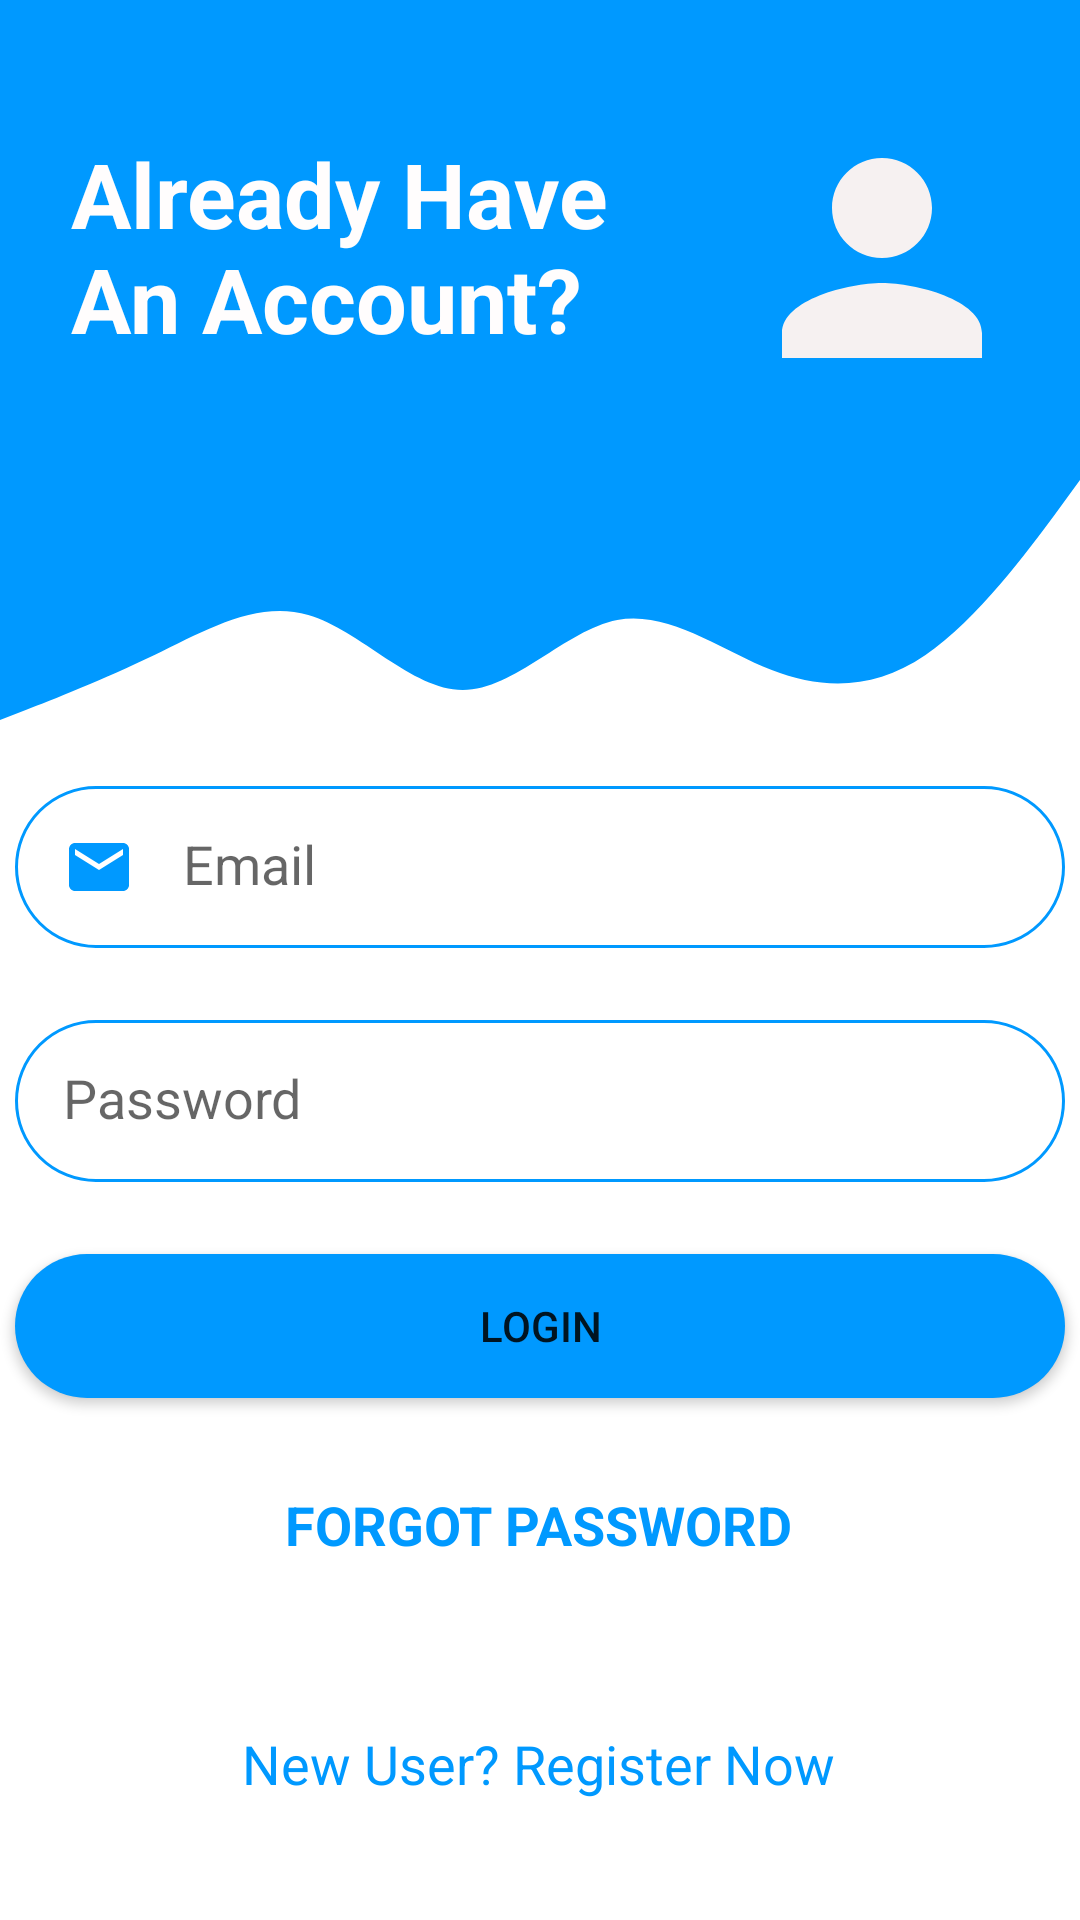

Named icons in this screenshot (1080px x 1920px) and their bounding boxes, (x1,y1,x2,y2):
person: (782,158,982,358)
